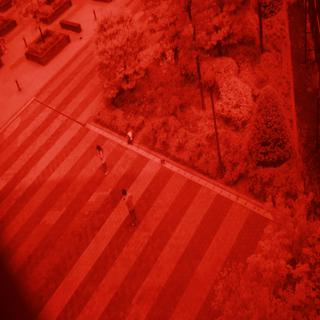person: (115, 184, 144, 232), (93, 138, 112, 183)
